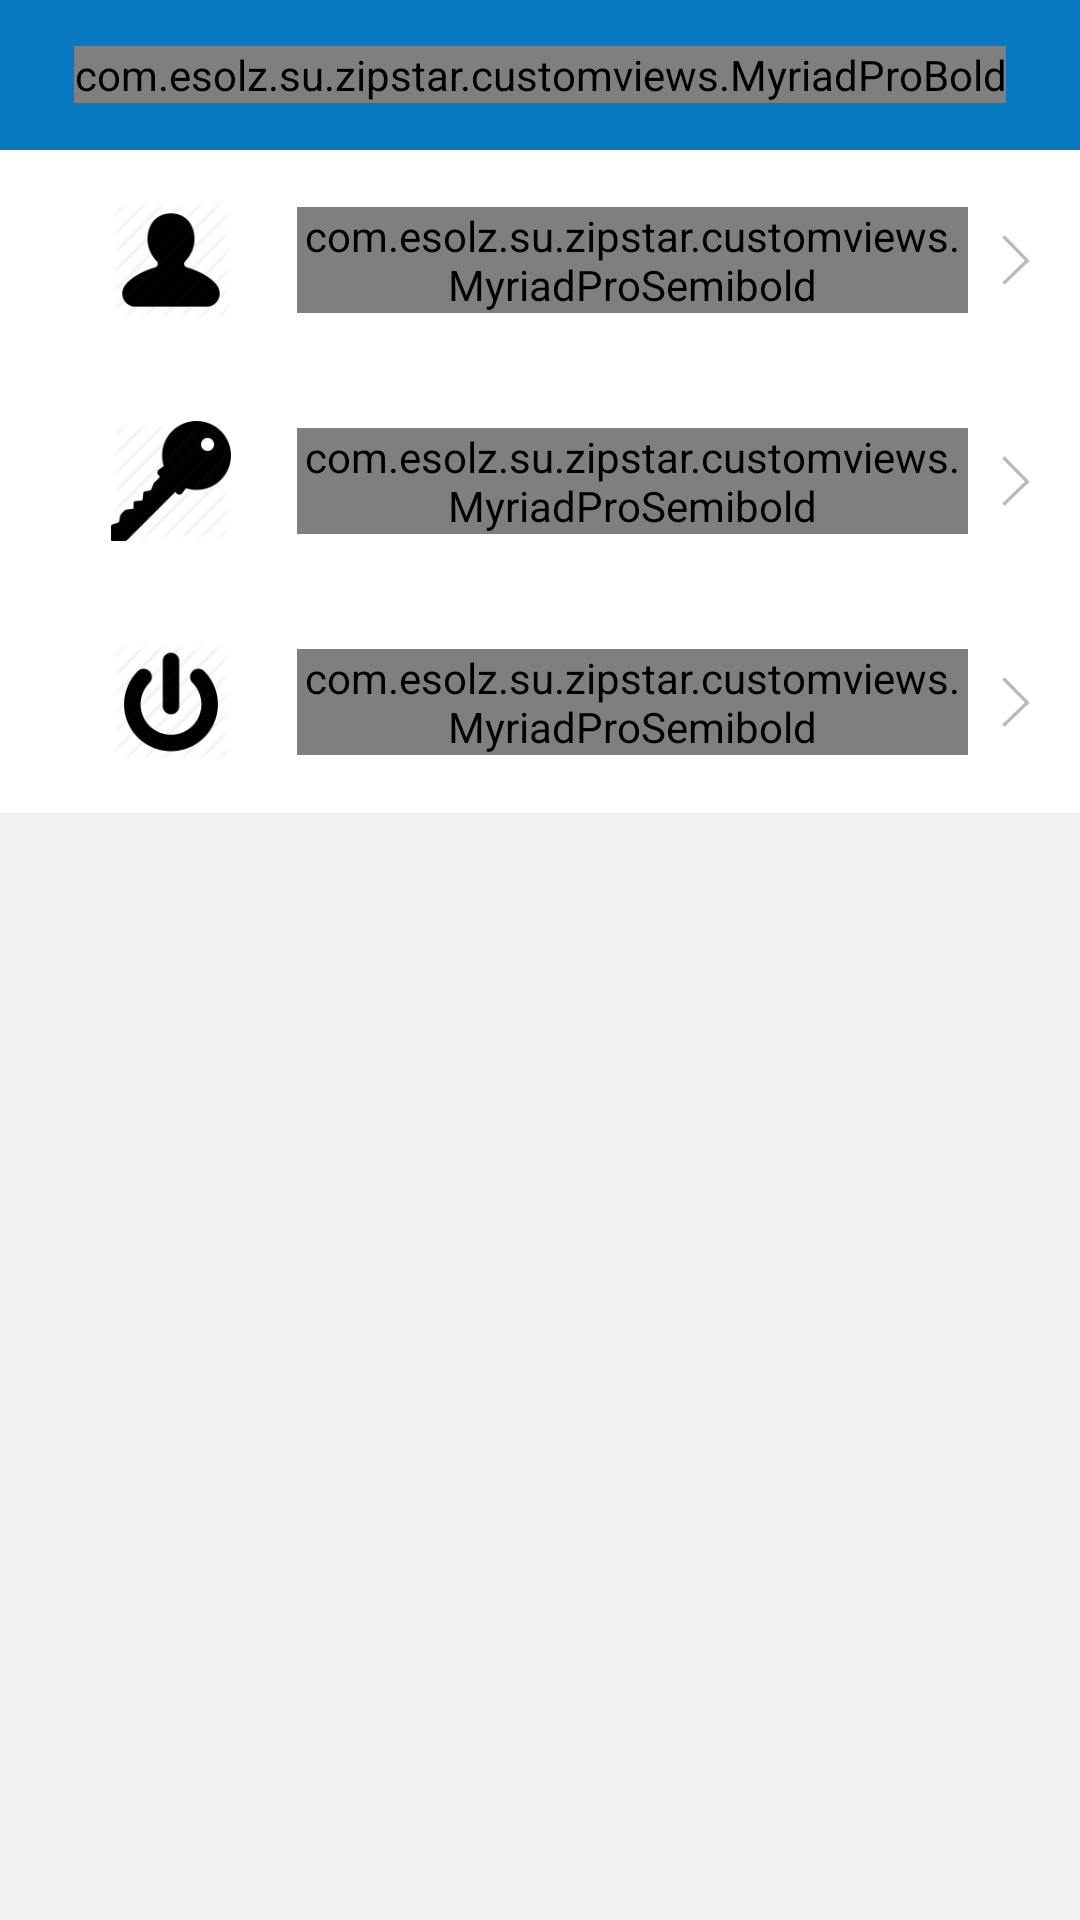

Icons on this 1080px x 1920px Android screen, each with its box as (left=x1, top=y1, right=x2, bottom=y2):
accountsetting: (left=111, top=421, right=231, bottom=541)
personalsetting: (left=122, top=213, right=220, bottom=307)
rightarrow: (left=1002, top=235, right=1030, bottom=285), (left=1002, top=456, right=1030, bottom=506), (left=1002, top=677, right=1030, bottom=727)
